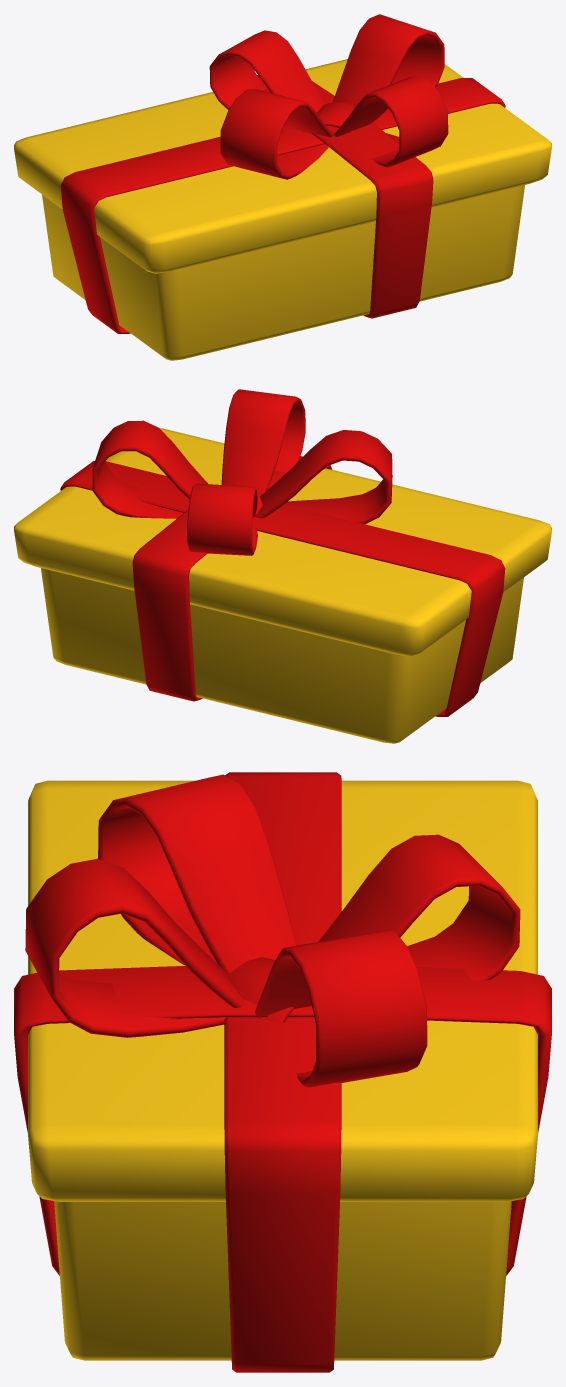
File: giftbox01.fbx
The picture shows the model from 3 angles, top to bottom: view 1: azimuth 30°, elevation 25°; view 2: azimuth 150°, elevation 25°; view 3: azimuth 270°, elevation 25°; orthographic projection. The views are drawn at different scales.
Parts seen in each view (by area): view 1: GIFTBOX_003; view 2: GIFTBOX_003; view 3: GIFTBOX_003.
Part boxes in pixels (bbox=[...]): GIFTBOX_003: bbox=[14, 14, 551, 360]; GIFTBOX_003: bbox=[14, 389, 551, 743]; GIFTBOX_003: bbox=[14, 772, 551, 1372].
Bounding box in the file's own units: 43.33 × 22 × 26.62.
